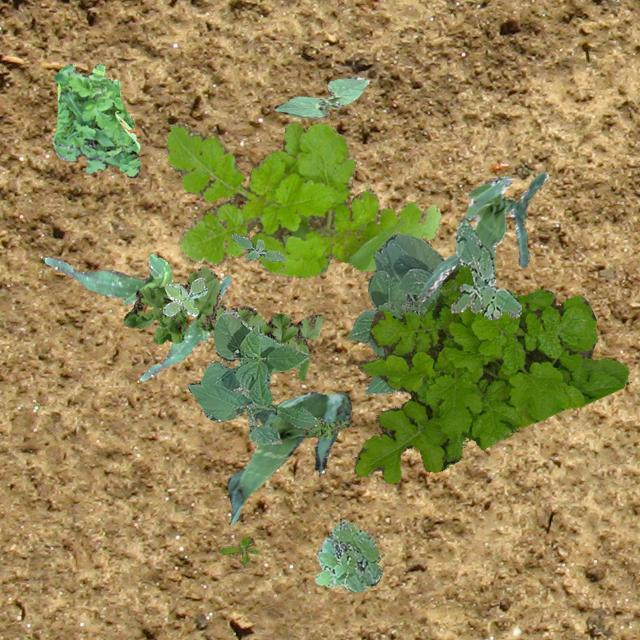crop: (186, 308, 318, 444), (416, 170, 548, 302), (227, 391, 351, 524), (346, 232, 462, 358), (140, 274, 230, 380), (44, 252, 172, 304), (274, 76, 368, 116), (364, 374, 394, 394)
weed: (353, 266, 628, 482), (164, 120, 440, 276), (122, 266, 322, 380), (52, 62, 140, 176), (450, 216, 520, 318), (314, 518, 382, 590), (162, 276, 206, 316), (230, 232, 284, 260), (218, 536, 258, 564), (304, 417, 351, 438)
